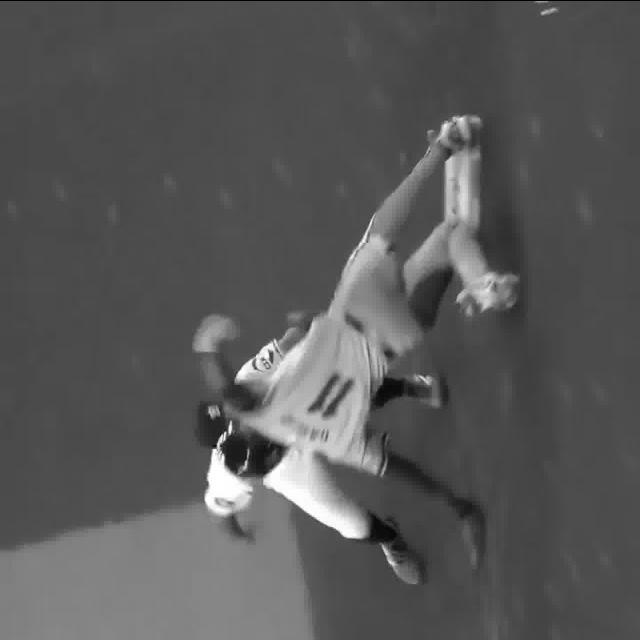base: (443, 148, 478, 234)
shoe: (459, 264, 515, 316), (383, 521, 427, 587), (404, 376, 444, 410), (443, 116, 478, 151)
